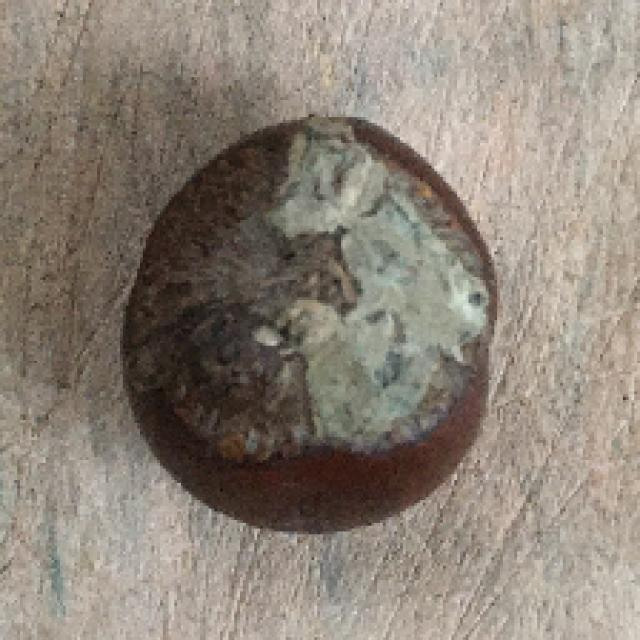damagedHazelnut: (114, 117, 502, 529)
